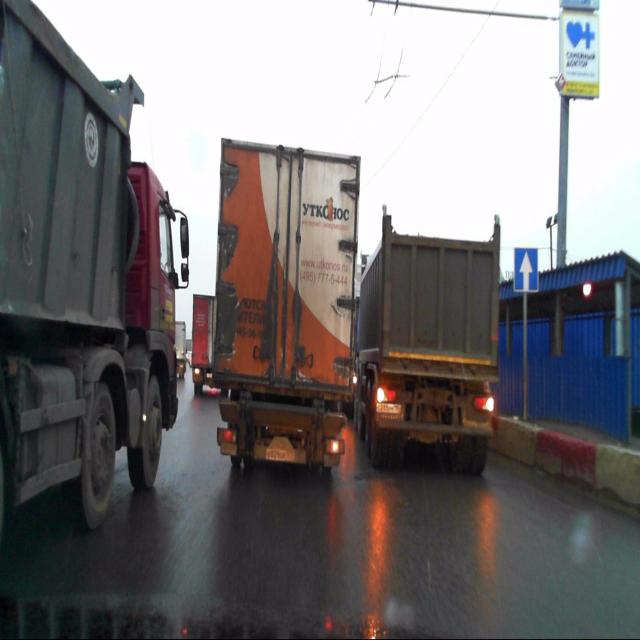road sign: (514, 247, 538, 292)
